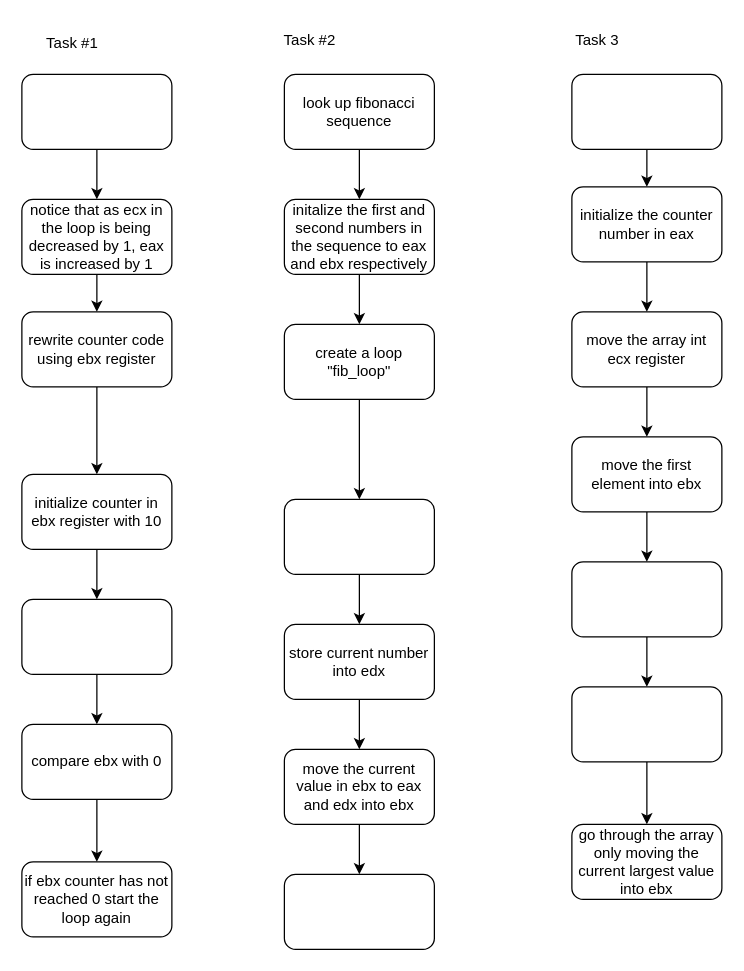
Some shapes in this 744 by 971 pixel diagram are drawn without their labels. Here are the shapes that lost their labels. From the top down, the centre of each, then its label:
pixel 96 111: use gdb to run counter example code
pixel 646 111: create an array with 4 integers
pixel 358 536: in the loop add the N-1 and N-2 number to get the Nth number
pixel 646 599: fetch the next element in the array
pixel 96 636: create a loop "label" that increases eax and decreases ebx by 1 each loop
pixel 646 724: compare current value in ebx to next value in array in ecx
pixel 358 911: run loop 9 times to get the resulting 10th number in the sequnce
